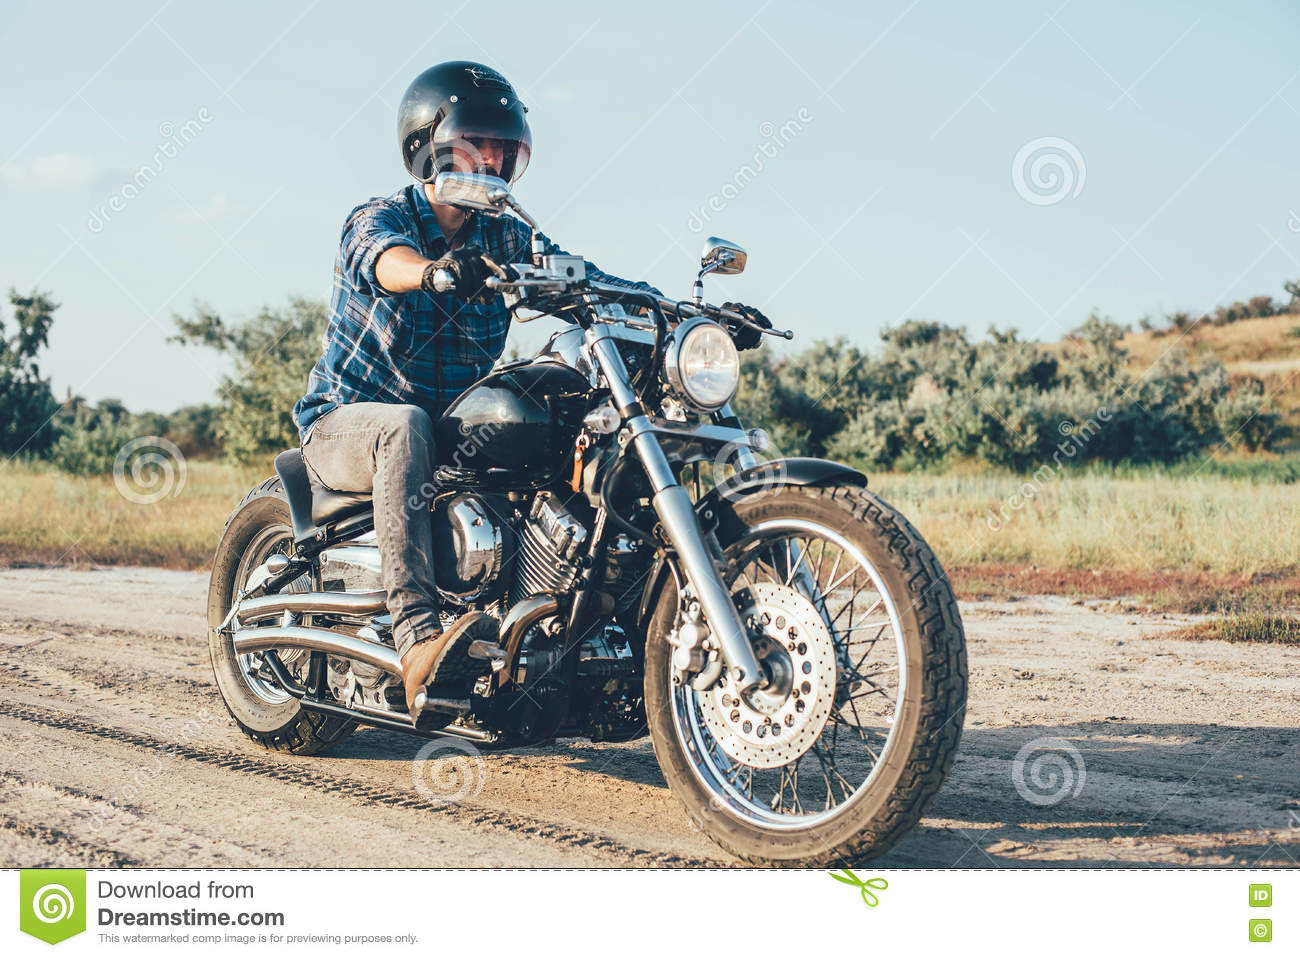helmet: (395, 60, 536, 167)
